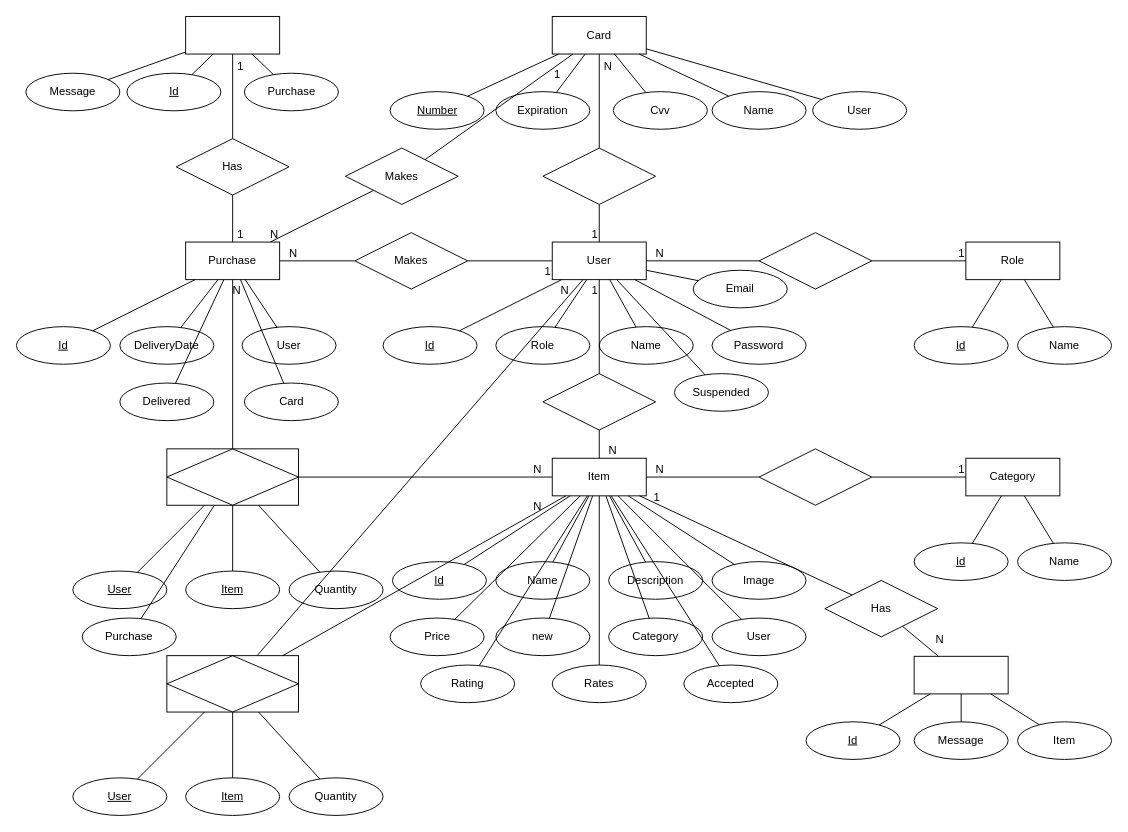
Some shapes in this 1128 by 832 pixel diagram are drawn without their labels. The shapes that lost their labels are listed below. From the top down, each one's box as (x1, y1, x2, y2) in pixels, then its label:
(185, 16, 280, 54): Purchase Notification
(542, 147, 656, 204): Owns
(758, 232, 872, 289): Plays
(542, 373, 656, 430): Sells
(166, 448, 298, 505): Item Purchased
(758, 448, 872, 505): Belongs
(166, 655, 298, 712): Item in Cart
(913, 655, 1008, 694): ItemNotification
